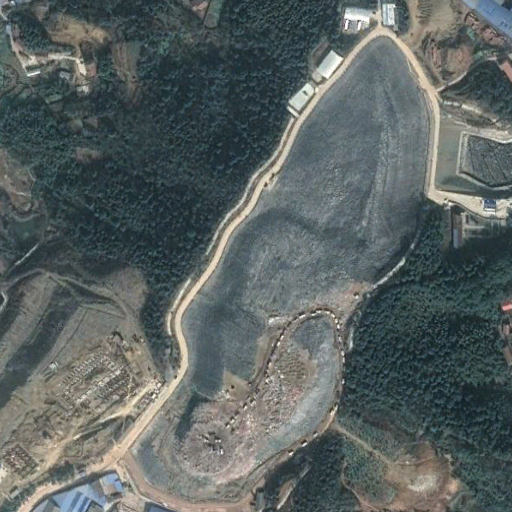lf: (119, 26, 434, 504)
